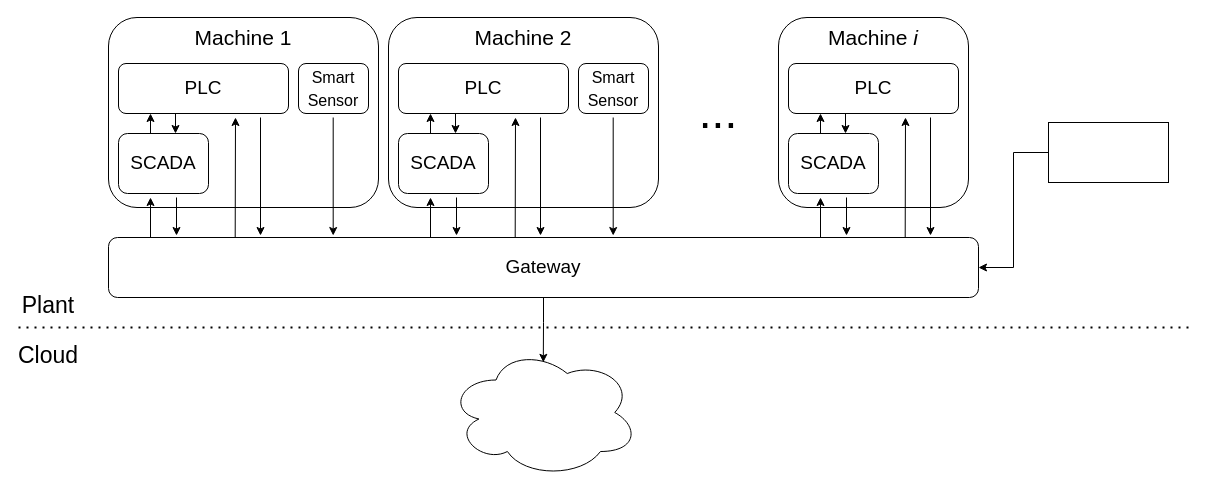
This 1207x495 diagram has some shape labels left out. The shapes that lost their labels are listed below. From the top down, each one's box as (x1, y1, x2, y2) in pixels, then its label:
(1048, 122, 1168, 182): MES
(448, 346, 638, 478): Data Lake
